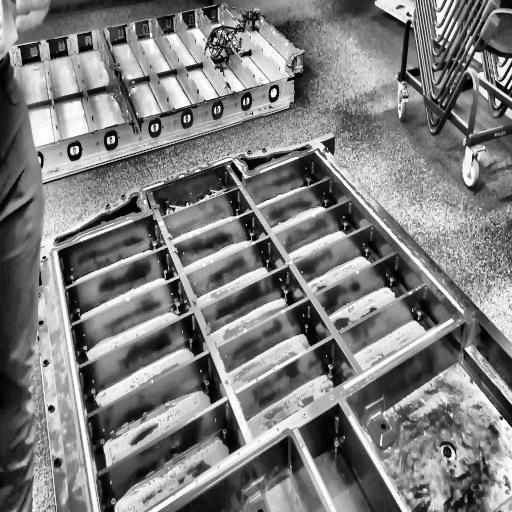b_casing: (30, 130, 512, 512)
